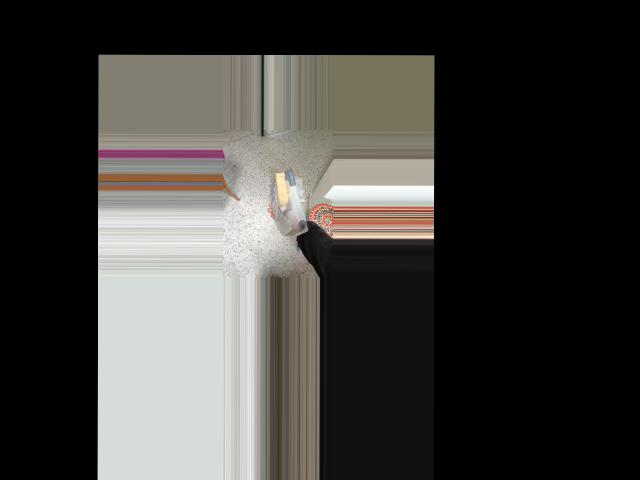cheese: (269, 168, 310, 235)
